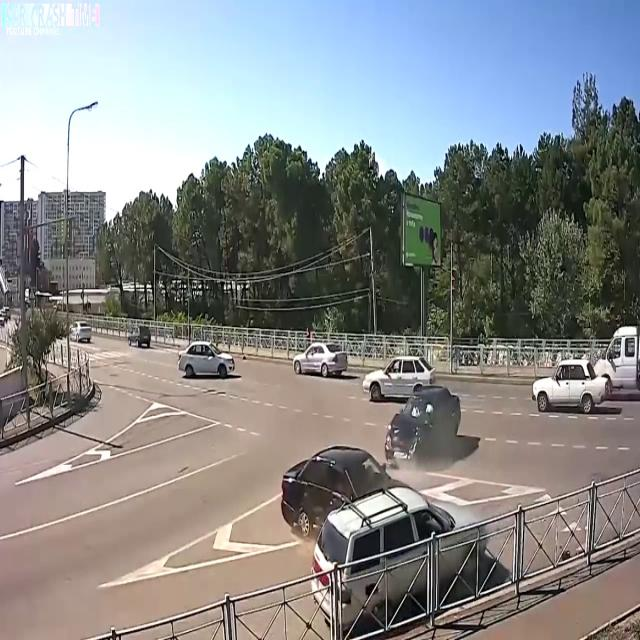Accident: (280, 378, 466, 540)
